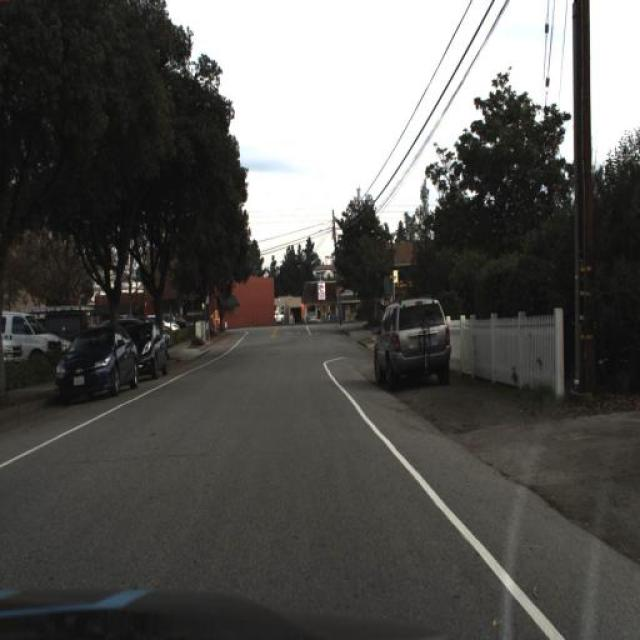car: (372, 296, 448, 395), (54, 318, 135, 402), (133, 316, 169, 380)
